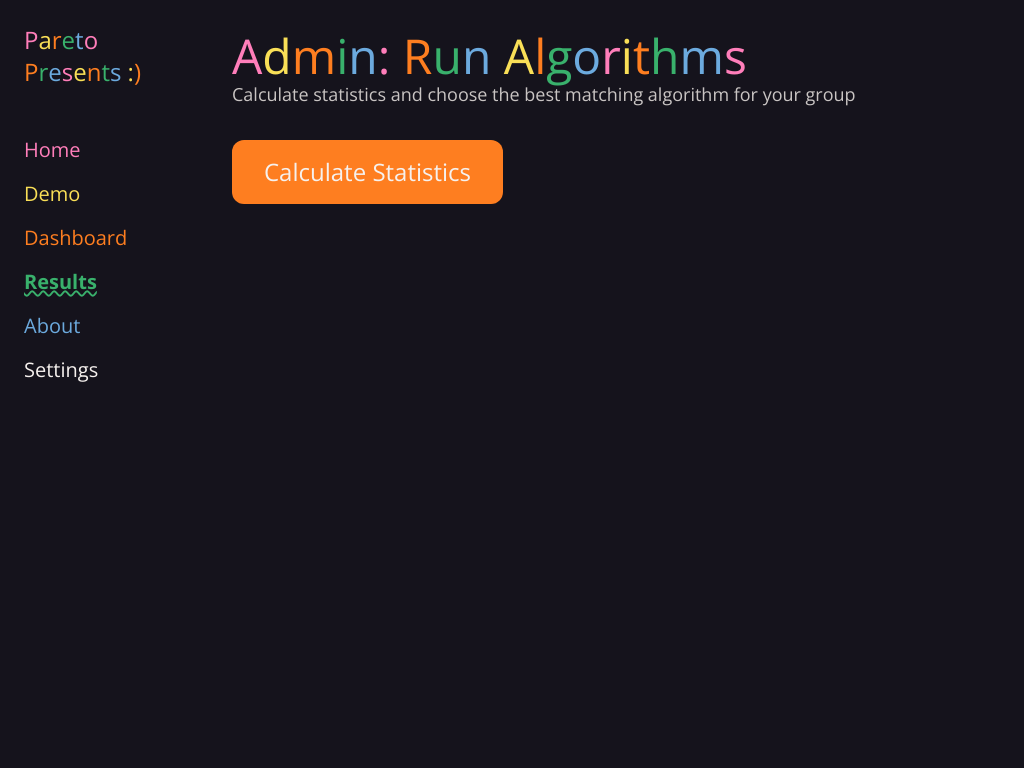
Scenario: ResultsPage › Admin - Calculate Statistics › calculates and displays statistics when clicking Calculate button
Click the button "Calculate Statistics" at (368, 172), box 232,140 -> 503,204
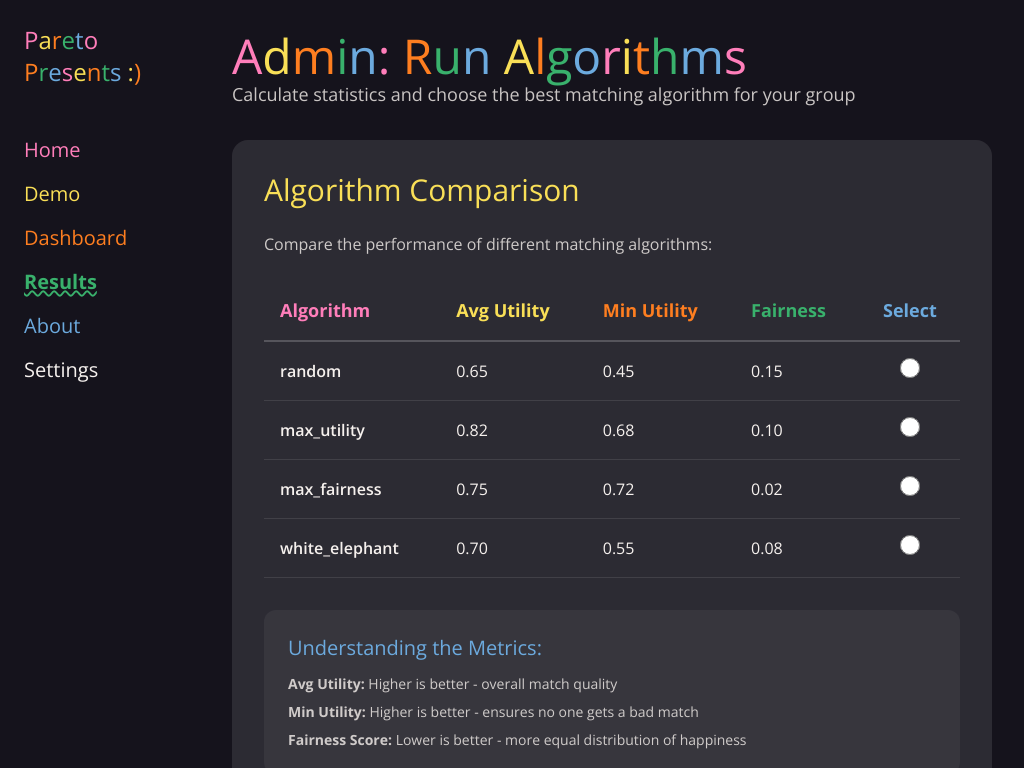
Now the heading "Algorithm Comparison" is shown, box 264,169 -> 580,210
Now the text "random" is shown, box 280,360 -> 341,382
Now the text "max_utility" is shown, box 280,419 -> 365,441
